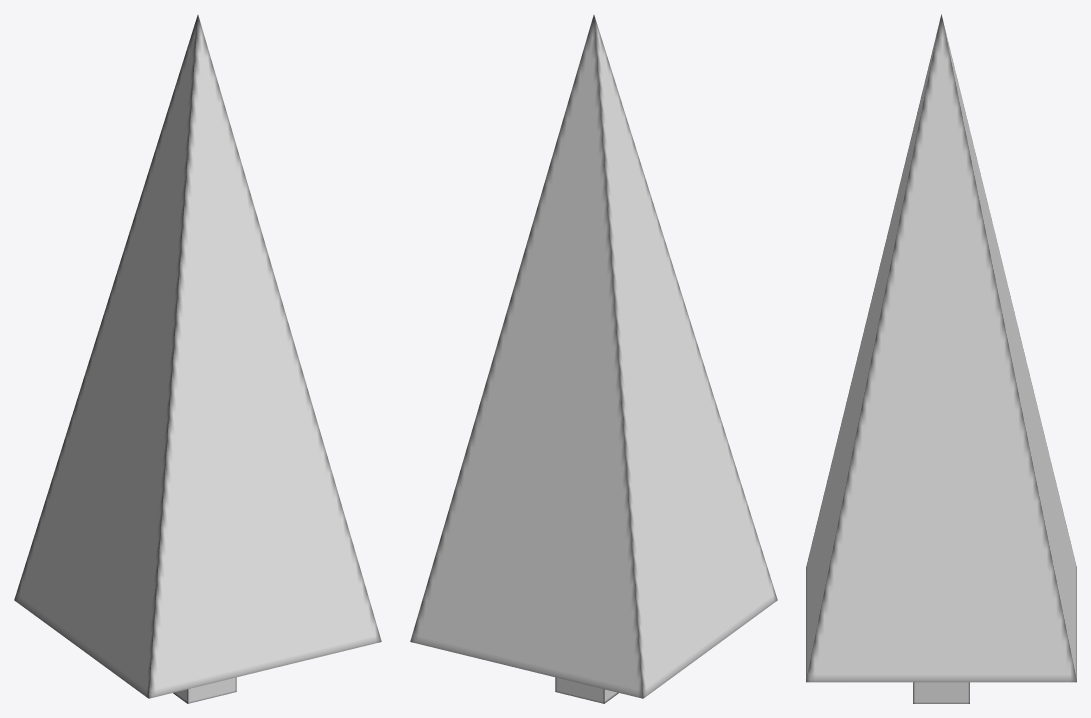
Rendered from Tree-01.fbx.
3 views of the same model, side by side, from view 1: azimuth 30°, elevation 25°; view 2: azimuth 150°, elevation 25°; view 3: azimuth 270°, elevation 25° (orthographic).
Visible parts, largest first — view 1: Tree_01; view 2: Tree_01; view 3: Tree_01.
Part boxes in pixels (<box>): Tree_01: <box>14,15,381,703</box>; Tree_01: <box>410,15,777,703</box>; Tree_01: <box>806,14,1076,703</box>.
Bounding box in the file's own units: 0.6226 × 1.72 × 0.6226.
